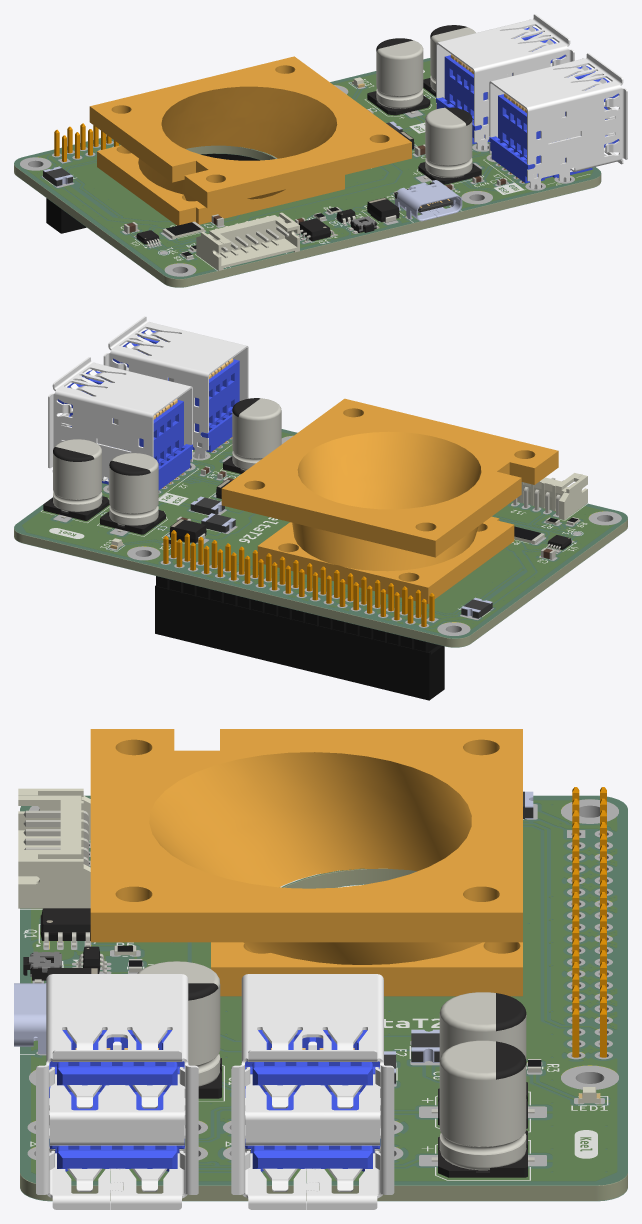
The model's file is keel.glb.
The picture shows the model from 3 angles, top to bottom: view 1: azimuth 30°, elevation 25°; view 2: azimuth 150°, elevation 25°; view 3: azimuth 270°, elevation 25°; orthographic projection. The views are drawn at different scales.
Visible parts, largest first — view 1: Duct, Keel_PCB_Soldermask_Top, J3, Keel_PCB_Pads, Keel_PCB, J2, J12, C3, C1, Keel_PCB_Tracks, J6, J1 (+7 smaller); view 2: Duct, J6, Keel_PCB_Soldermask_Top, J2, Keel_PCB_Pads, J3, Keel_PCB, C3, C5, Keel_PCB_Tracks, C1, J12 (+3 smaller); view 3: Duct, Keel_PCB_Soldermask_Top, J2, J3, Keel_PCB_Pads, Keel_PCB, C5, J12, Keel_PCB_Tracks, C1, C3, J6 (+5 smaller).
Part boxes in pixels (<box>): Duct: <box>89,56,411,225</box>; Keel_PCB_Soldermask_Top: <box>14,58,600,278</box>; J3: <box>489,53,627,189</box>; Keel_PCB_Pads: <box>28,61,592,272</box>; Keel_PCB: <box>14,59,601,287</box>; J2: <box>436,14,574,150</box>; J12: <box>196,212,299,270</box>; C3: <box>367,38,430,115</box>; C1: <box>418,107,481,184</box>; Keel_PCB_Tracks: <box>20,83,574,276</box>; J6: <box>46,123,260,233</box>; J1: <box>394,180,462,221</box>; Duct: <box>221,398,558,603</box>; J6: <box>155,530,444,700</box>; Keel_PCB_Soldermask_Top: <box>14,429,627,638</box>; J2: <box>48,357,192,490</box>; Keel_PCB_Pads: <box>22,432,612,632</box>; J3: <box>103,316,248,458</box>; Keel_PCB: <box>14,430,627,647</box>; C3: <box>100,453,165,534</box>; C5: <box>43,439,109,520</box>; Keel_PCB_Tracks: <box>53,435,621,635</box>; C1: <box>223,398,281,473</box>; J12: <box>513,473,587,519</box>; Duct: <box>90,729,522,996</box>; Keel_PCB_Soldermask_Top: <box>20,795,627,1185</box>; J2: <box>231,974,394,1209</box>; J3: <box>36,974,198,1209</box>; Keel_PCB_Pads: <box>31,801,616,1180</box>; Keel_PCB: <box>20,796,627,1200</box>; C5: <box>431,1040,534,1177</box>; J12: <box>18,788,90,908</box>; Keel_PCB_Tracks: <box>27,799,618,1166</box>; C1: <box>137,961,221,1098</box>; C3: <box>431,992,534,1128</box>; J6: <box>572,787,606,1057</box>.
Size of the model in its own units: 0.0898 by 0.0286 by 0.0566.
